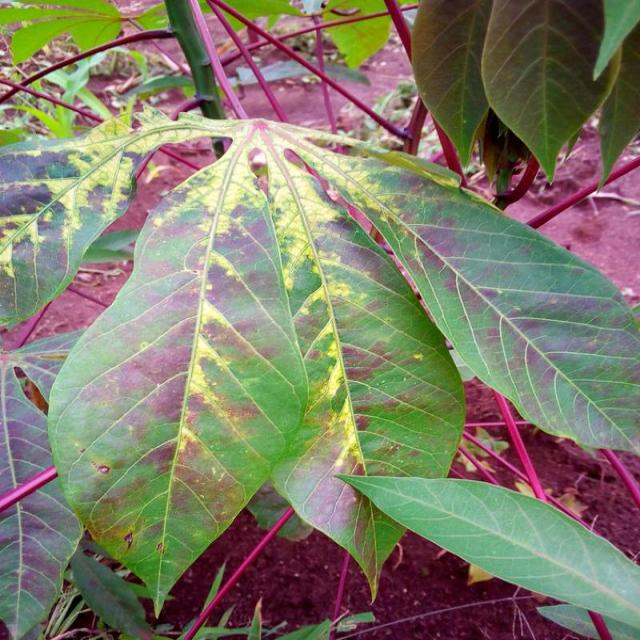cassava leaf: (5, 107, 639, 630), (47, 130, 310, 618), (334, 470, 640, 636)
